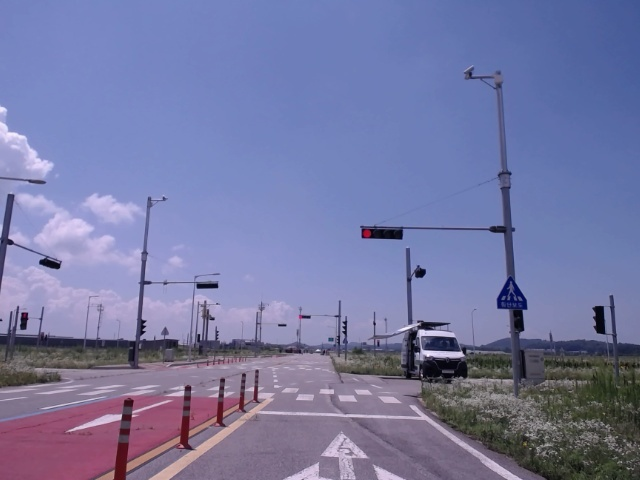red_4: (361, 228, 404, 239)
